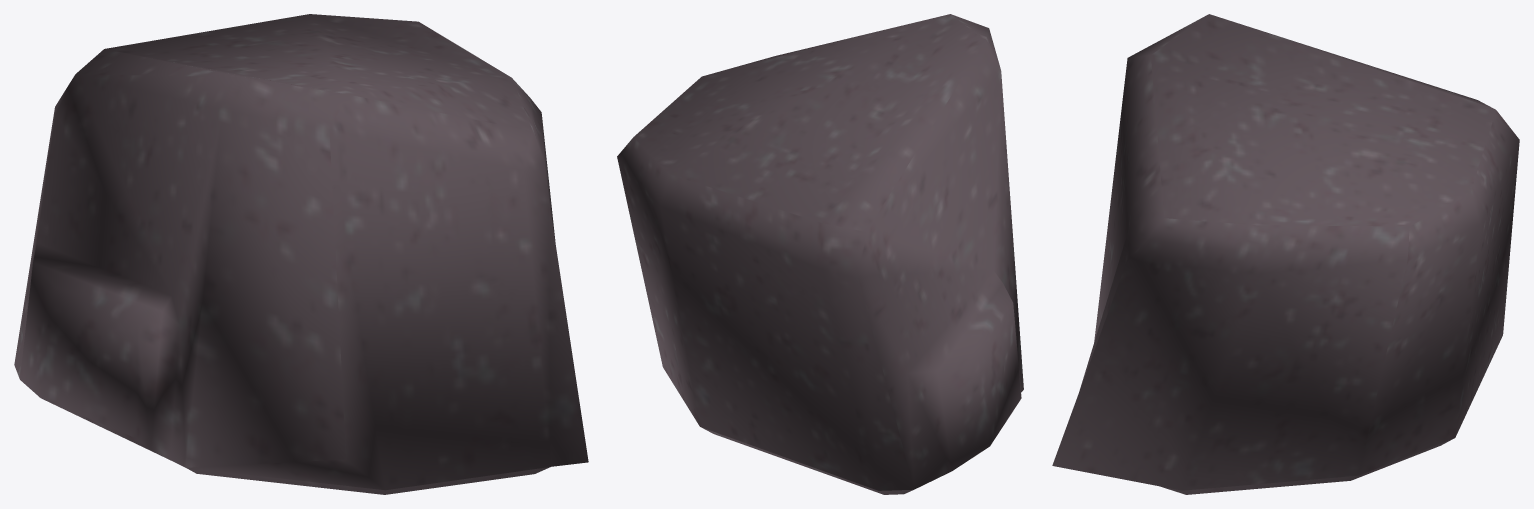
Rendered from StoneC.FBX.
3 renders of one model, left to right at view 1: azimuth 30°, elevation 25°; view 2: azimuth 150°, elevation 25°; view 3: azimuth 270°, elevation 25°, orthographic. The views are drawn at different scales.
Visible parts, largest first — view 1: StoneC; view 2: StoneC; view 3: StoneC.
Boxes of the visible parts, left/top/right/bottom form: StoneC: left=14, top=14, right=588, bottom=494; StoneC: left=617, top=14, right=1023, bottom=494; StoneC: left=1052, top=14, right=1519, bottom=494.
Size of the model in its own units: 118 by 105 by 125.
